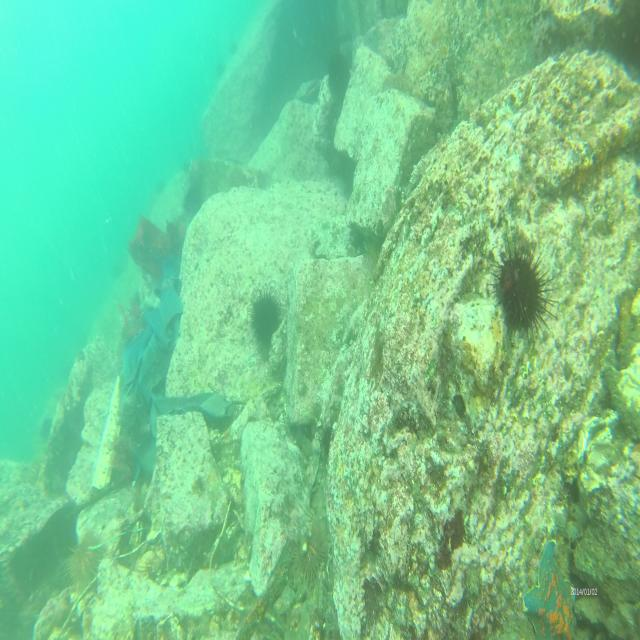echinus: (491, 232, 550, 339), (294, 523, 327, 588), (246, 289, 282, 345), (65, 535, 98, 592), (180, 185, 203, 216)
scallop: (138, 547, 166, 583)
starfish: (518, 535, 580, 640)
